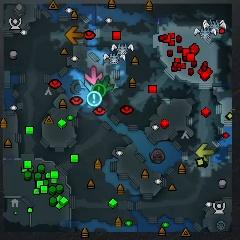Other: (93, 84, 107, 97), (88, 92, 101, 106)
x1: (85, 66, 102, 84)
x2: (196, 143, 214, 162)
x4: (96, 76, 114, 92)
x5: (65, 26, 84, 44)
